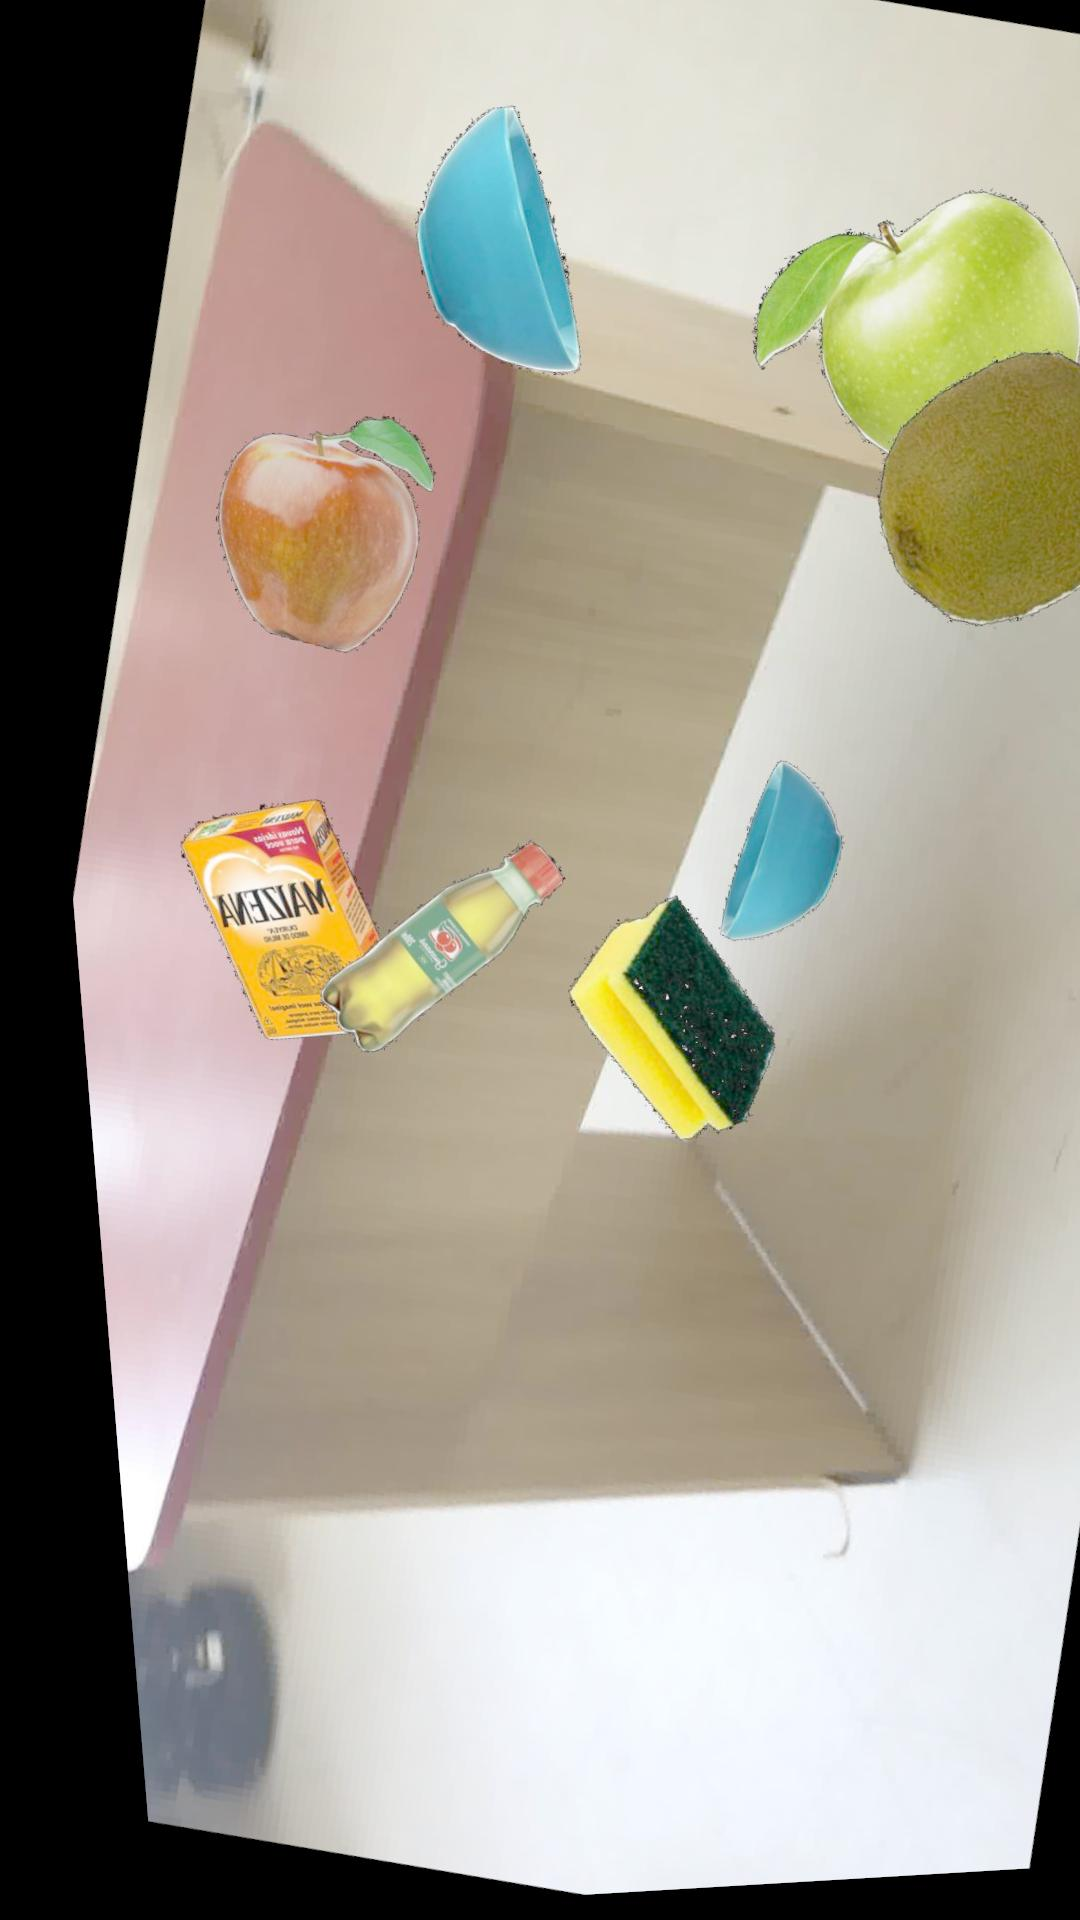apple: (210, 422, 429, 658)
bowl: (411, 113, 575, 384), (704, 771, 828, 949)
green apple: (748, 204, 1079, 465)
guarana: (305, 849, 551, 1058)
kiwi: (869, 365, 1080, 640)
sponge: (551, 905, 758, 1149)
